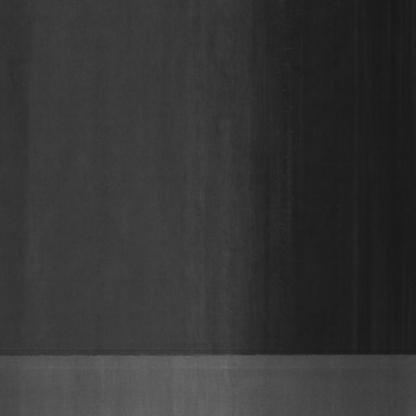welding_line: (0, 339, 416, 371)
